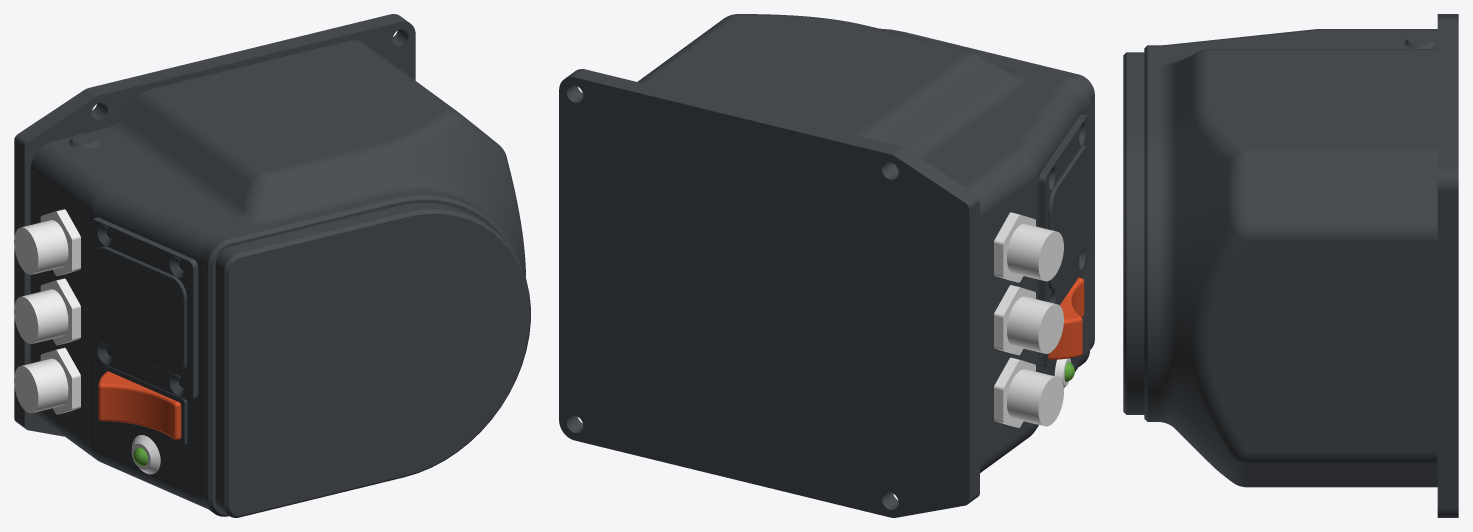
3 renders of one model, left to right at view 1: azimuth 30°, elevation 25°; view 2: azimuth 150°, elevation 25°; view 3: azimuth 270°, elevation 25°, orthographic. The views are drawn at different scales.
Visible parts, largest first — view 1: Dummy Link 0; view 2: Dummy Link 0; view 3: Dummy Link 0.
Part boxes in pixels (x1,y1,x2,y2): Dummy Link 0: [14, 14, 530, 517]; Dummy Link 0: [559, 14, 1094, 517]; Dummy Link 0: [1123, 14, 1458, 517].
Size of the model in its own units: 0.141 by 0.11 by 0.096.
